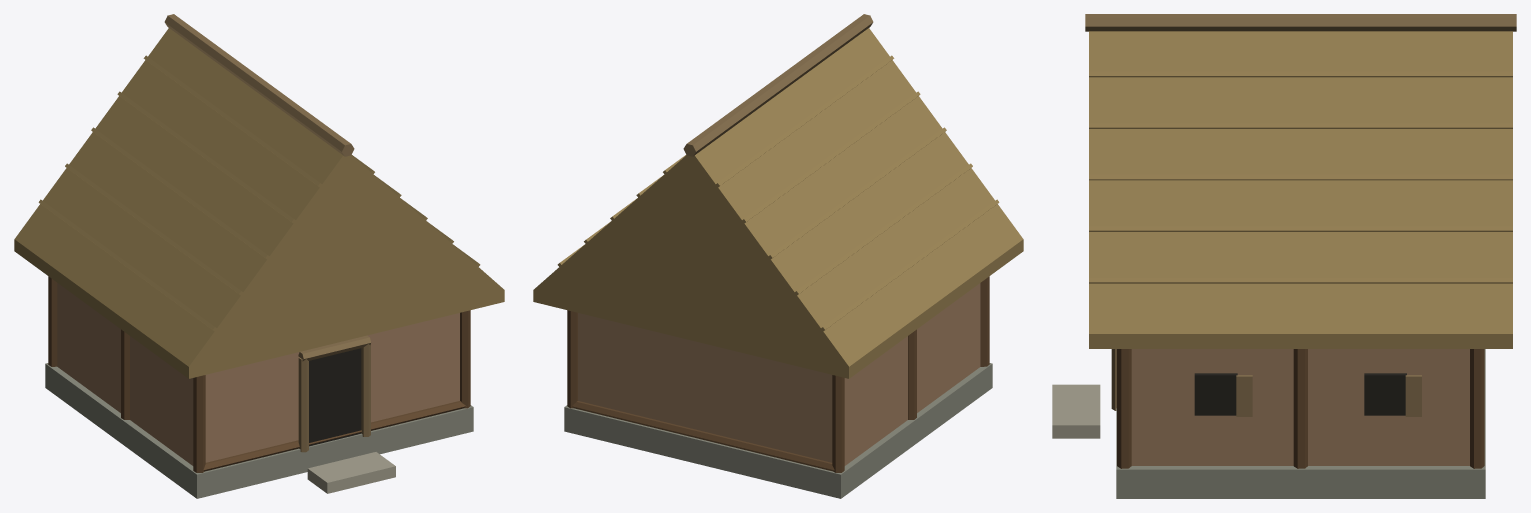
Rendered from house_medium.glb.
3 renders of one model, left to right at view 1: azimuth 30°, elevation 25°; view 2: azimuth 150°, elevation 25°; view 3: azimuth 270°, elevation 25°, orthographic. The views are drawn at different scales.
Parts seen in each view (by area): view 1: house_medium; view 2: house_medium; view 3: house_medium.
Part boxes in pixels (x1,y1,x2,y2): house_medium: (14,14,504,498); house_medium: (533,14,1023,498); house_medium: (1052,14,1516,498).
Bounding box in the file's own units: 5.99 × 6 × 6.28.
